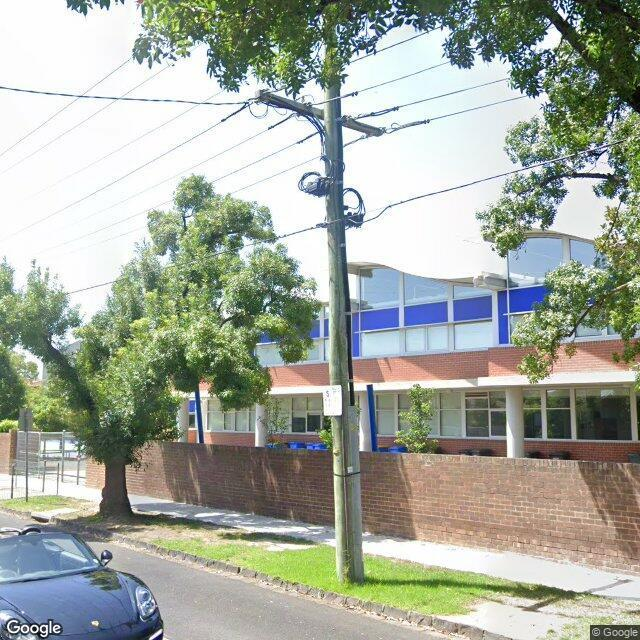crossarm: (254, 90, 383, 136)
timber-pole: (324, 80, 365, 586)
